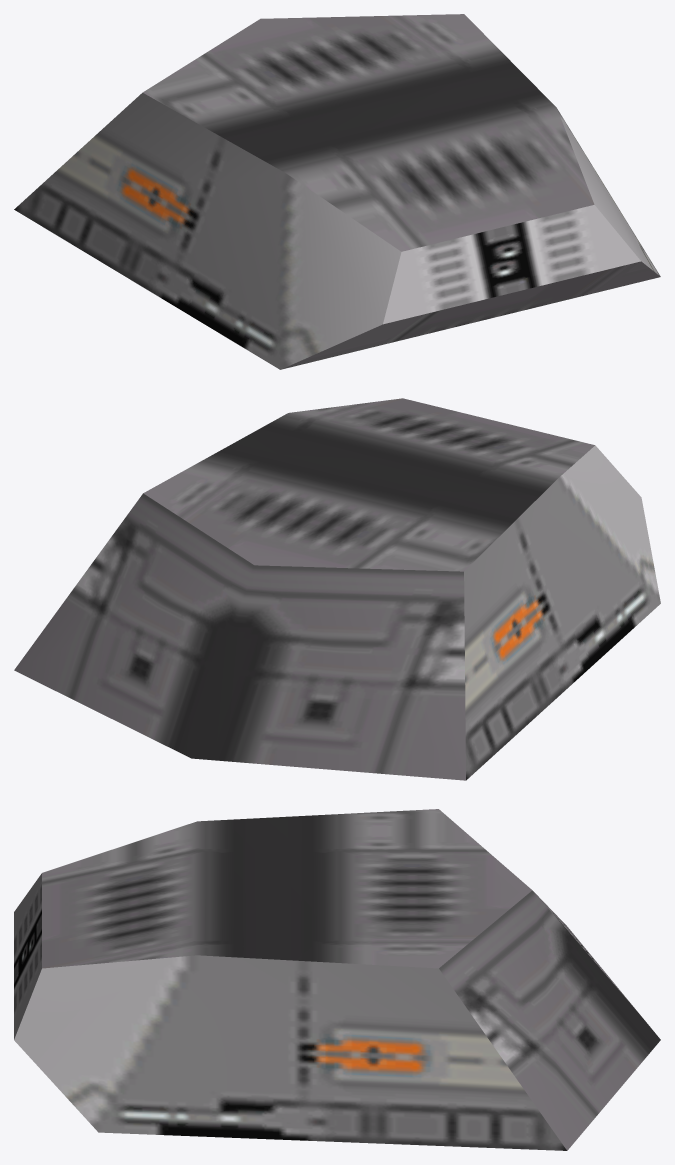
File: cruiser_hw1_ion.obj
3 renders of one model, top to bottom at view 1: azimuth 30°, elevation 25°; view 2: azimuth 150°, elevation 25°; view 3: azimuth 270°, elevation 25°, orthographic.
Visible parts, largest first — view 1: gun_top, gun_sides, gun_front; view 2: gun_back, gun_top, gun_sides; view 3: gun_sides, gun_top, gun_back, gun_front.
Part boxes in pixels (x1,y1,x2,y2): gun_top: (143, 14, 660, 369); gun_sides: (14, 92, 660, 369); gun_front: (383, 205, 640, 324); gun_back: (14, 493, 465, 780); gun_top: (143, 398, 594, 571); gun_sides: (464, 445, 660, 780); gun_sides: (14, 955, 566, 1150); gun_top: (42, 809, 532, 968); gun_back: (439, 890, 660, 1150); gun_front: (14, 873, 41, 1039).
Bounding box in the file's own units: 34.1 × 10.59 × 41.5.
